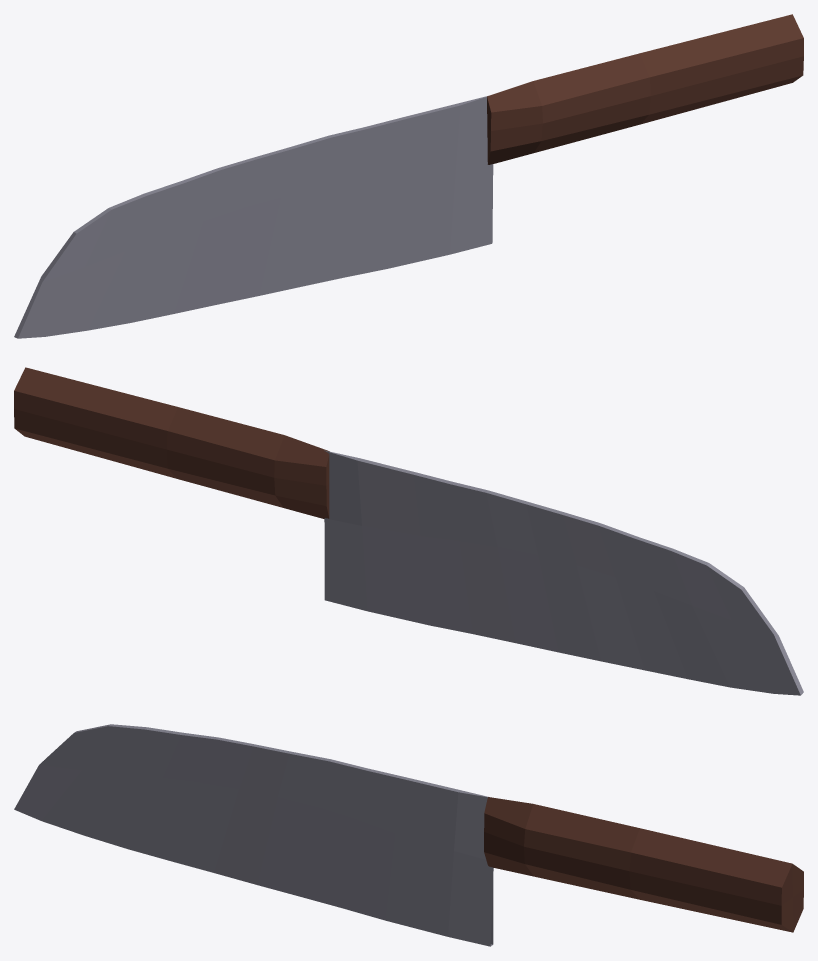
The model's file is knife.fbx.
3 renders of one model, top to bottom at view 1: azimuth 30°, elevation 25°; view 2: azimuth 150°, elevation 25°; view 3: azimuth 330°, elevation 25°, orthographic.
Visible parts, largest first — view 1: Knife; view 2: Knife; view 3: Knife.
Part boxes in pixels (left/top/right/bottom): Knife: left=14, top=14, right=803, bottom=338; Knife: left=14, top=367, right=803, bottom=695; Knife: left=14, top=724, right=803, bottom=946.
Size of the model in its own units: 228 by 44.15 by 11.29.
